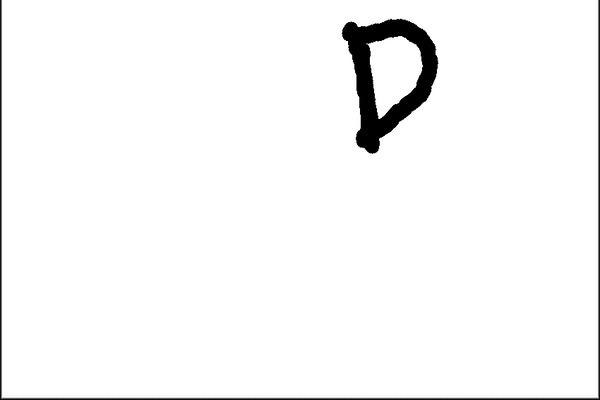D: (331, 16, 445, 158)
